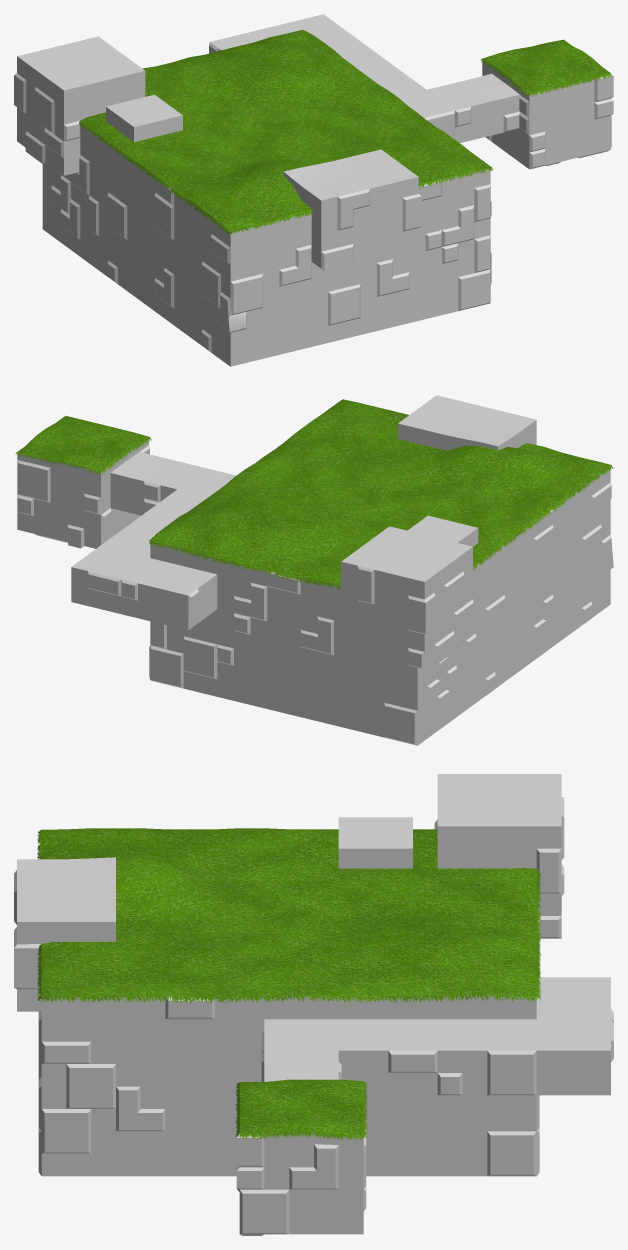
File: SM_world_0_01.fbx
3 views of the same model, one above another, from view 1: azimuth 30°, elevation 25°; view 2: azimuth 150°, elevation 25°; view 3: azimuth 270°, elevation 25° (orthographic). The views are drawn at different scales.
Visible parts, largest first — view 1: Hub_Main; view 2: Hub_Main; view 3: Hub_Main.
Boxes of the visible parts, x1,y1,x2,y2 form: Hub_Main: (14,14,613,366); Hub_Main: (15,395,613,745); Hub_Main: (14,774,613,1235).
Bounding box in the file's own units: 7330 × 6060 × 2500.
